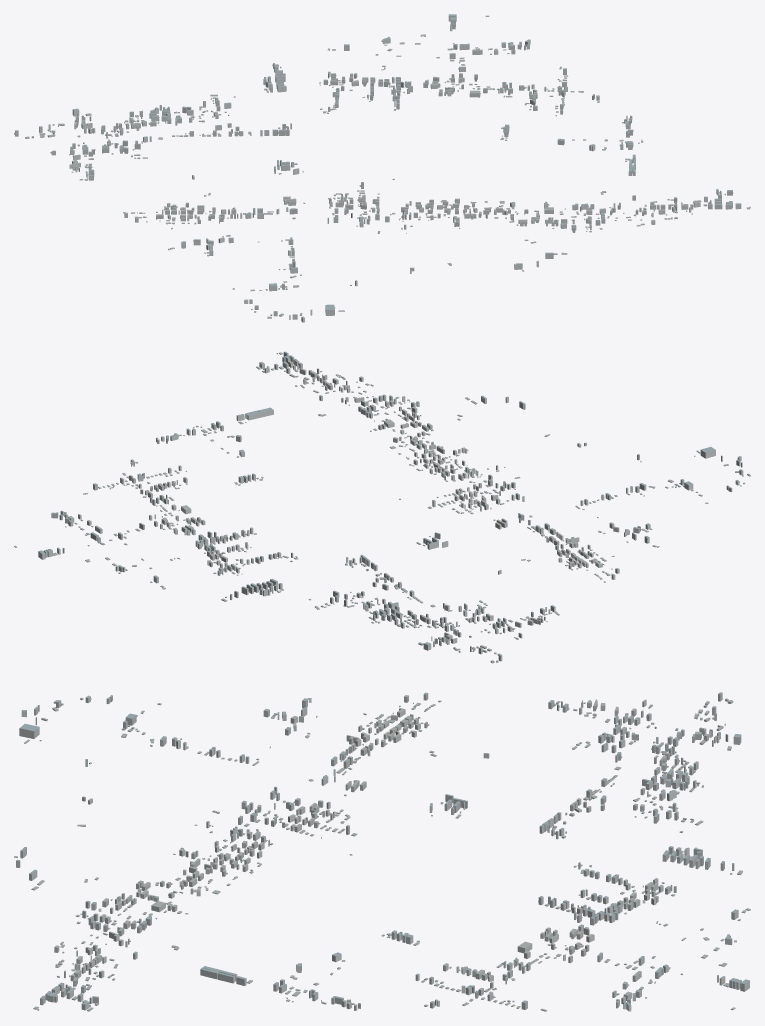
3 views of the same model, one above another, from view 1: azimuth 30°, elevation 25°; view 2: azimuth 150°, elevation 25°; view 3: azimuth 270°, elevation 25° (orthographic). The views are drawn at different scales.
Parts seen in each view (by area): view 1: 上海全域建筑分块 · mapped building neighborhood; view 2: 上海全域建筑分块 · mapped building neighborhood; view 3: 上海全域建筑分块 · mapped building neighborhood.
Boxes of the visible parts, bbox=[...] form: 上海全域建筑分块 · mapped building neighborhood: bbox=[14, 14, 750, 322]; 上海全域建筑分块 · mapped building neighborhood: bbox=[14, 351, 750, 663]; 上海全域建筑分块 · mapped building neighborhood: bbox=[14, 692, 750, 1011].
Bounding box in the file's own units: 2089 × 25.51 × 2077.
